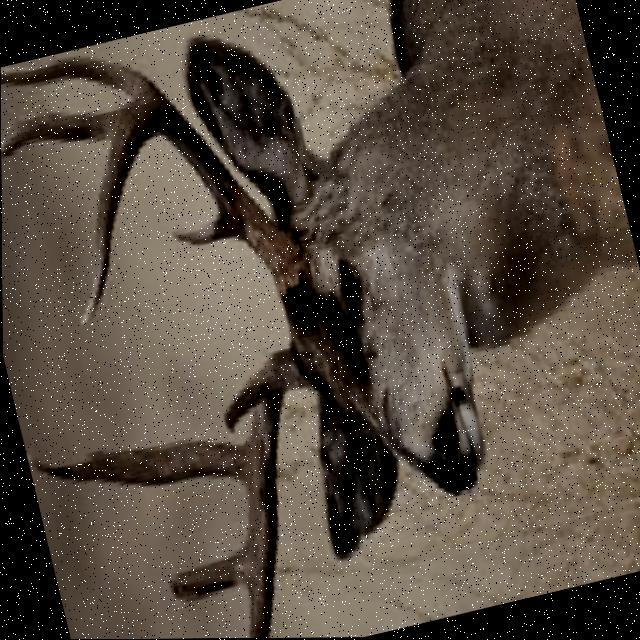L-F: (247, 342, 321, 639)
L-G1: (221, 350, 282, 432)
L-G2: (24, 438, 246, 486)
L-G3: (167, 545, 248, 602)
R-F: (77, 93, 301, 325)
R-G1: (169, 204, 241, 246)
R-G2: (0, 54, 165, 97)
R-G3: (1, 105, 123, 161)
